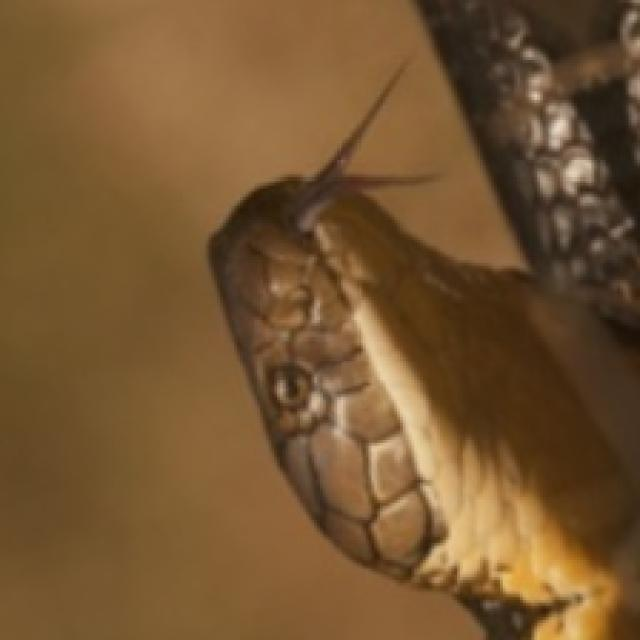king cobra: (209, 89, 637, 637), (420, 0, 637, 323)
